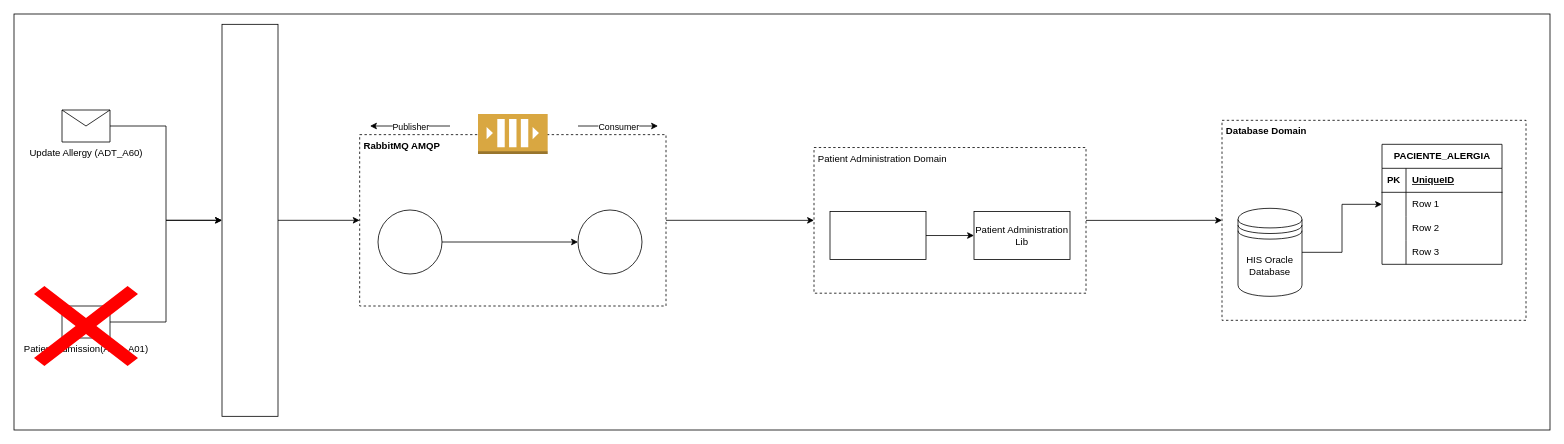
This 1564x444 diagram has some shape labels left out. Each missing label, with the centre of its shape:
API Gateway (TIE): pixel 249 220
Exchange: pixel 409 241
Patient Administration Service: pixel 877 235
Queue: pixel 609 241
